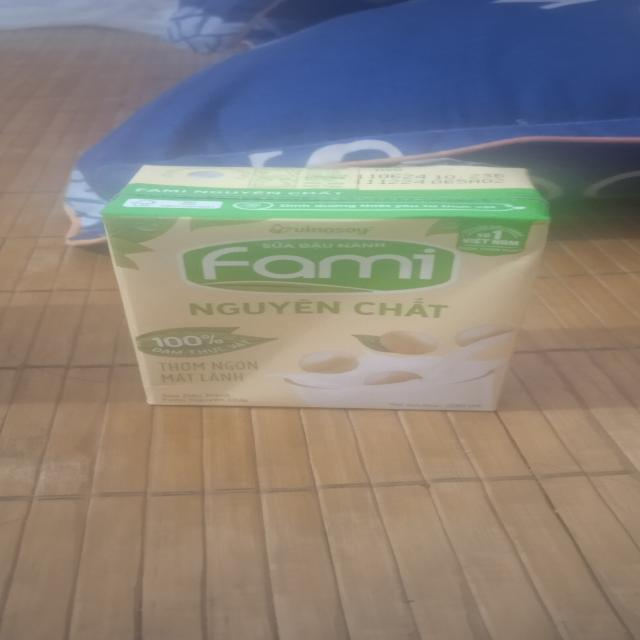Fami: (105, 161, 555, 407)
